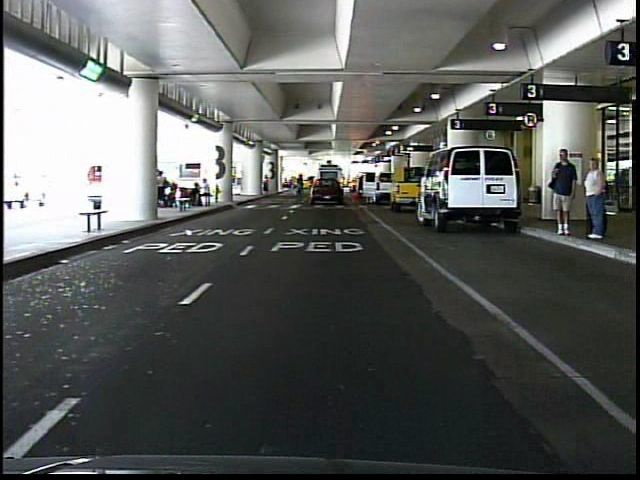person: (579, 151, 613, 244), (548, 146, 577, 240), (263, 170, 274, 194)
